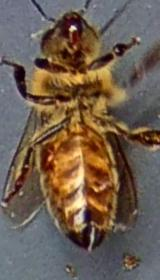varroa_mite: (38, 138, 58, 172)
